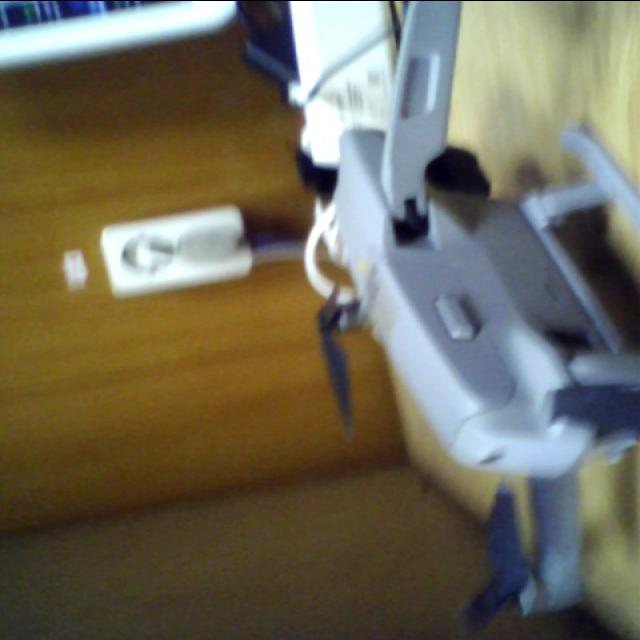drone: (288, 0, 640, 615)
